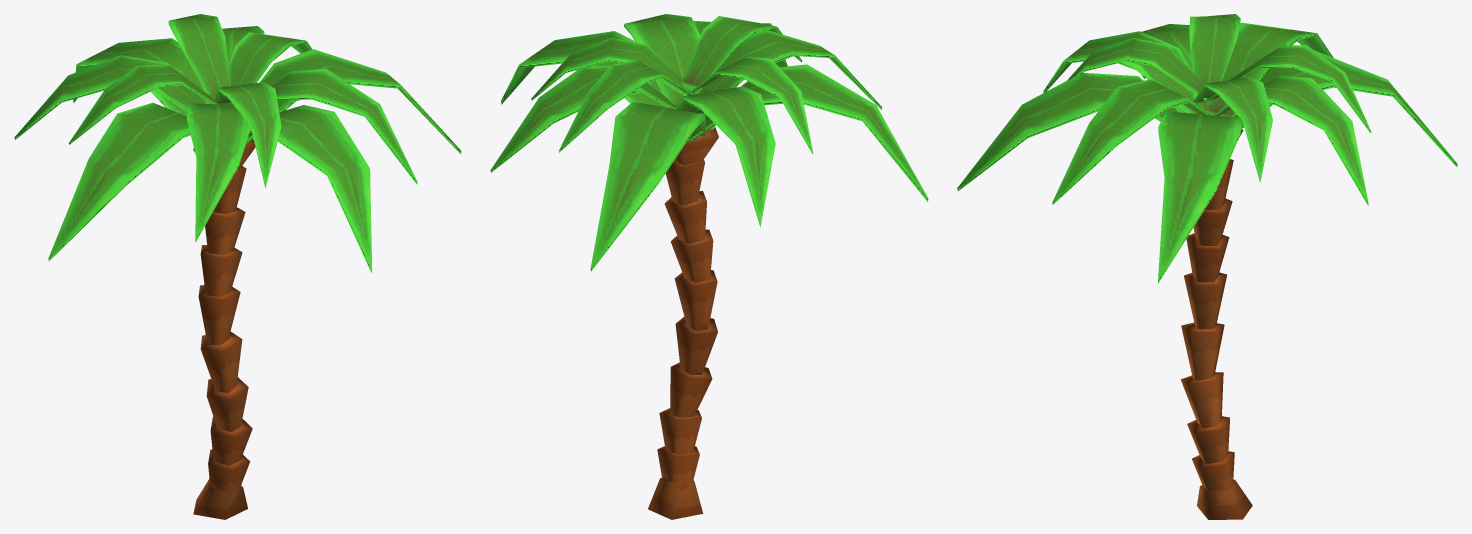
Rendered from ArabianPalm_01.fbx.
3 views of the same model, side by side, from view 1: azimuth 30°, elevation 25°; view 2: azimuth 150°, elevation 25°; view 3: azimuth 270°, elevation 25° (orthographic).
Parts seen in each view (by area): view 1: ArabianPalm_01; view 2: ArabianPalm_01; view 3: ArabianPalm_01.
Part boxes in pixels (x1,y1,x2,y2): ArabianPalm_01: (14, 14, 461, 519); ArabianPalm_01: (490, 14, 928, 519); ArabianPalm_01: (957, 14, 1457, 519).
Size of the model in its own units: 526 by 549 by 541.
